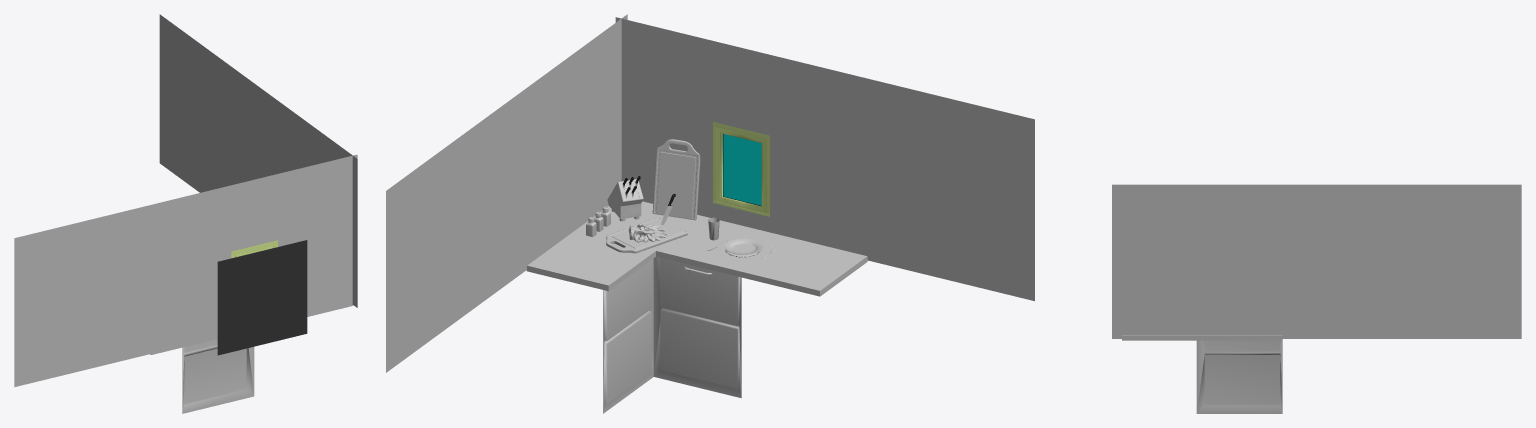
The model's file is L_StillLife.fbx.
3 views of the same model, side by side, from view 1: azimuth 30°, elevation 25°; view 2: azimuth 150°, elevation 25°; view 3: azimuth 270°, elevation 25° (orthographic). The views are drawn at different scales.
Visible parts, largest first — view 1: Boolean, Plane_012, Plane, Plane_003, _WIN0003_Residential_Plastic_White_142x62x104; view 2: Boolean, Plane_012, Plane_003, Plane_004, _WIN0003_Residential_Plastic_White_142x62x104, Cube4, Cube, Cube2, SM_CuttingBoard2, Dinnerware, Cube3, SM_CuttingBoard (+1 smaller); view 3: Plane_012, Plane_004, Cube3, Cube4.
Boxes of the visible parts, <box> form: Boolean: <box>14,154,357,387</box>; Plane_012: <box>159,14,357,307</box>; Plane: <box>217,240,307,355</box>; Plane_003: <box>182,339,254,413</box>; _WIN0003_Residential_Plastic_White_142x62x104: <box>231,240,277,258</box>; Boolean: <box>615,17,1034,301</box>; Plane_012: <box>386,14,627,372</box>; Plane_003: <box>653,256,741,398</box>; Plane_004: <box>603,258,653,413</box>; _WIN0003_Residential_Plastic_White_142x62x104: <box>713,122,769,216</box>; Cube4: <box>526,231,655,291</box>; Cube: <box>738,236,867,296</box>; Cube2: <box>656,216,784,276</box>; SM_CuttingBoard2: <box>652,139,700,220</box>; Dinnerware: <box>687,217,791,270</box>; Cube3: <box>575,201,702,250</box>; SM_CuttingBoard: <box>606,217,687,253</box>; Plane_012: <box>1112,184,1521,338</box>; Plane_004: <box>1196,340,1282,413</box>; Cube3: <box>1122,335,1202,340</box>; Cube4: <box>1202,335,1282,340</box>.
Bounding box in the file's own units: 766 × 857 × 538.
